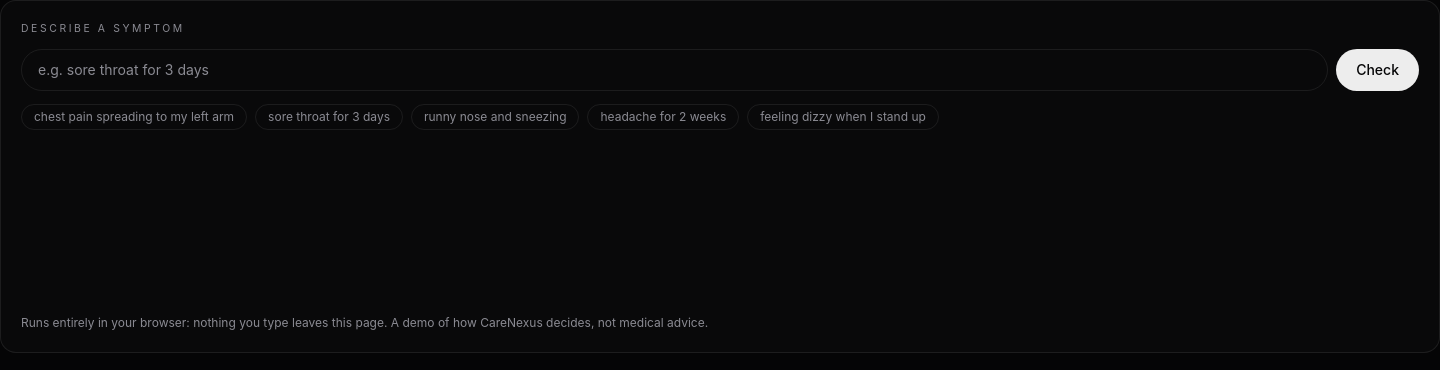
it: pocket triage demo › says so when the knowledge base cannot load
Click the button "headache for 2 weeks" at {"x": 663, "y": 117}, box [588,104,739,130]
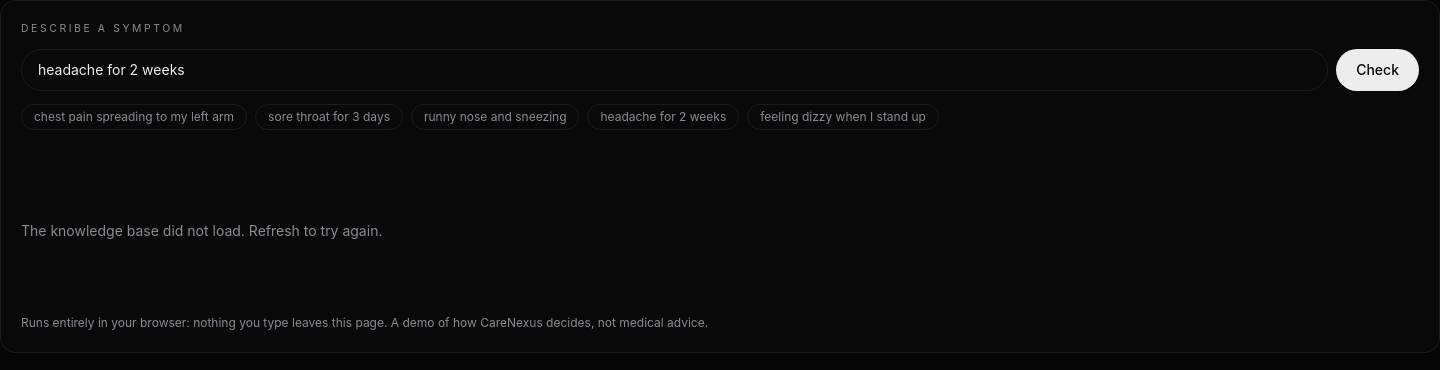
Result: the element with test id "triage-result" shows "did not load" at [21,222,382,239]
